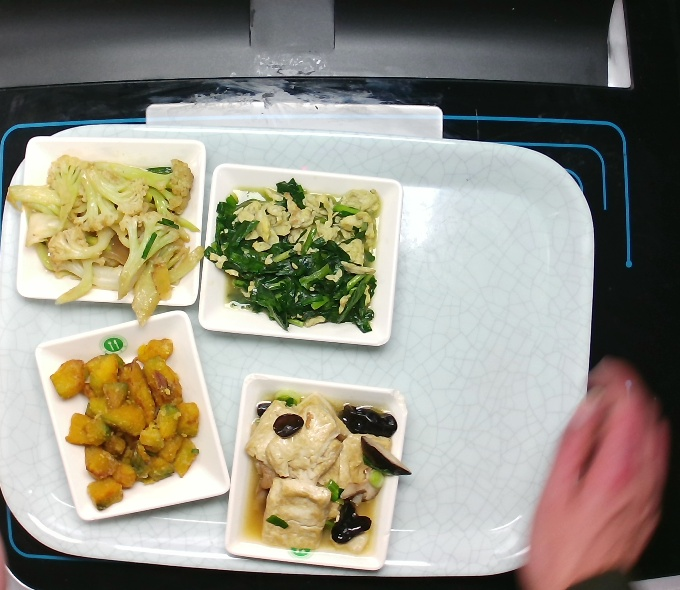wcq-DanHuangNanGua: (41, 333, 209, 519)
wcq-JiaChangDouFu: (239, 386, 413, 553)
wcq-JiuCaiJiDan: (201, 174, 381, 327)
wcq-QiuCai: (1, 150, 211, 315)
